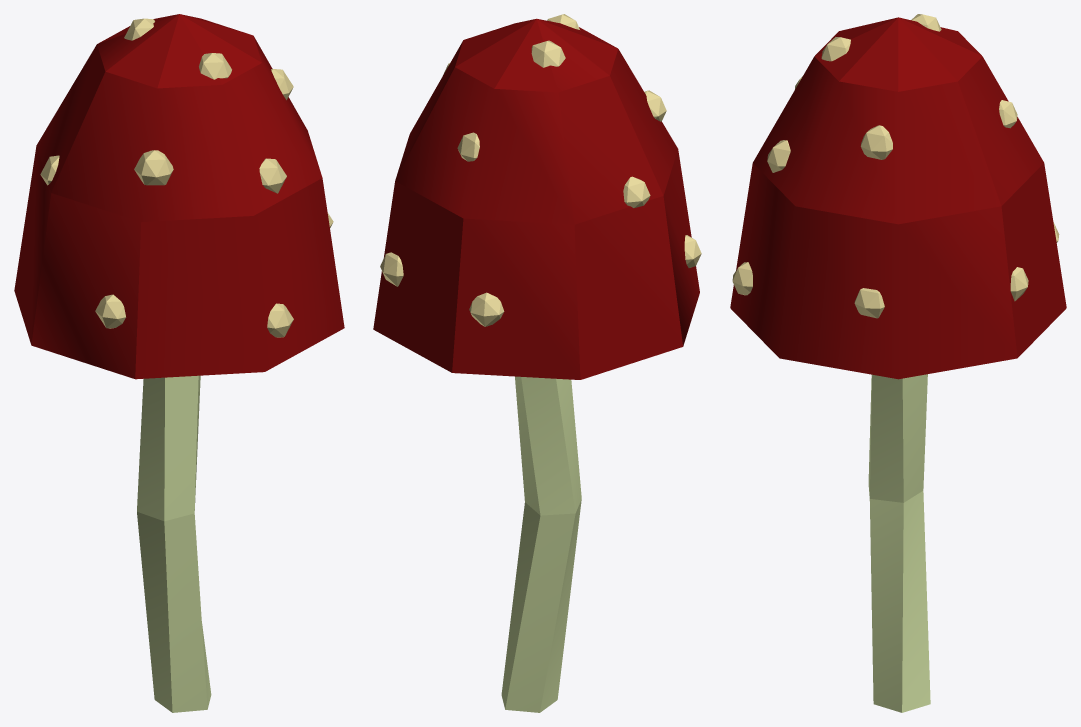
File: Mushroom_f_b_02.fbx
The picture shows the model from 3 angles, left to right: view 1: azimuth 30°, elevation 25°; view 2: azimuth 150°, elevation 25°; view 3: azimuth 270°, elevation 25°; orthographic projection.
Parts seen in each view (by area): view 1: Mushroom_f_b_02_LOD0; view 2: Mushroom_f_b_02_LOD0; view 3: Mushroom_f_b_02_LOD0.
Part boxes in pixels (<box>): Mushroom_f_b_02_LOD0: <box>14,14,344,712</box>; Mushroom_f_b_02_LOD0: <box>373,14,701,712</box>; Mushroom_f_b_02_LOD0: <box>730,14,1066,712</box>.
Size of what is drawn, in the model's own units: 6.91 by 15.38 by 6.91.
